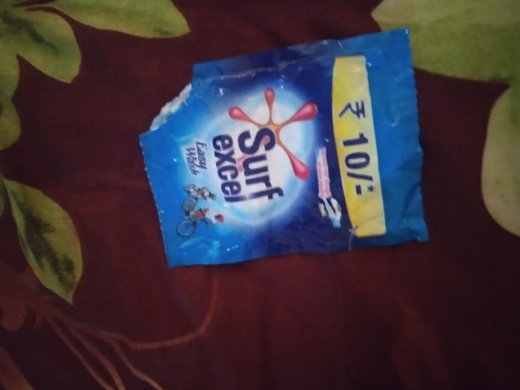surf: (117, 27, 457, 284)
